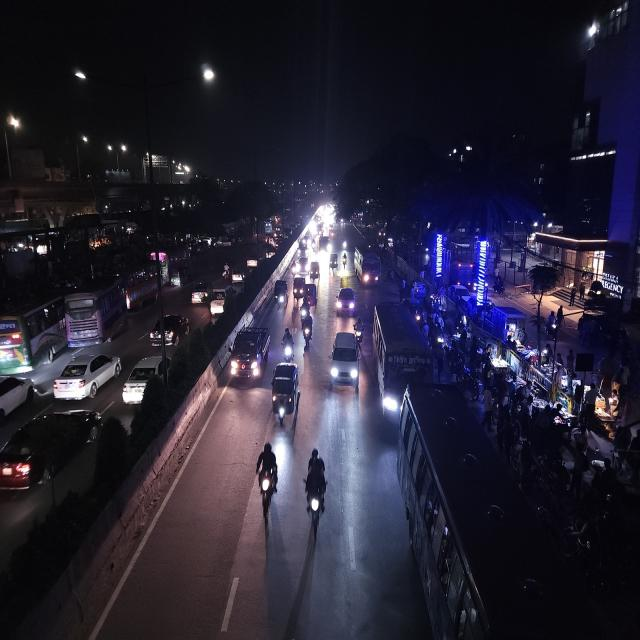bus: (396, 386, 586, 640), (371, 299, 431, 429), (0, 287, 70, 370), (64, 279, 128, 346), (122, 267, 162, 315), (353, 241, 381, 290), (148, 246, 176, 286)
car: (1, 406, 103, 497), (52, 349, 122, 402), (121, 352, 171, 406), (328, 327, 362, 392), (0, 369, 38, 426), (148, 310, 190, 350), (209, 285, 236, 317), (335, 284, 357, 317), (190, 281, 209, 306), (230, 268, 245, 285), (246, 255, 260, 271), (298, 239, 309, 259), (264, 244, 275, 260)
cng: (270, 360, 300, 427), (273, 276, 289, 310), (292, 273, 306, 303), (171, 266, 189, 289), (308, 260, 321, 284), (328, 251, 339, 275)
motorcycle: (303, 444, 330, 538), (255, 438, 279, 521), (300, 311, 314, 351), (281, 325, 295, 363), (352, 313, 363, 342), (341, 251, 349, 275)
pickup_van: (230, 324, 271, 388)
